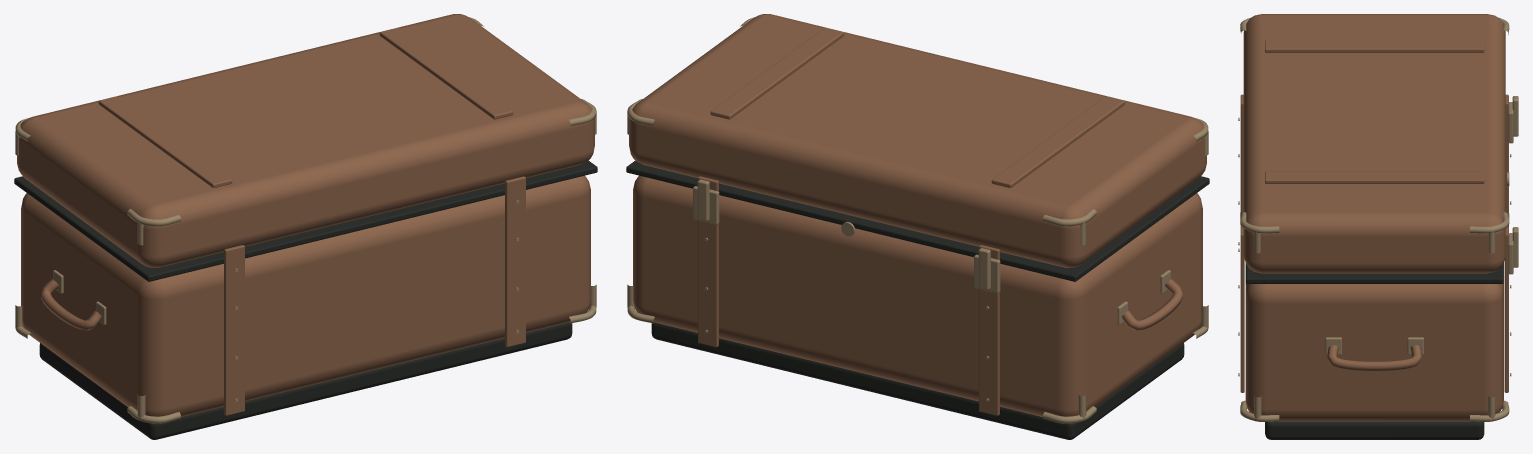
Rendered from crafted-steamer-trunk.glb.
3 renders of one model, left to right at view 1: azimuth 30°, elevation 25°; view 2: azimuth 150°, elevation 25°; view 3: azimuth 270°, elevation 25°, orthographic. The views are drawn at different scales.
Visible parts, largest first — view 1: leather_surfaces, dark_surfaces, bronze_surfaces; view 2: leather_surfaces, dark_surfaces, bronze_surfaces; view 3: leather_surfaces, dark_surfaces, bronze_surfaces.
Part boxes in pixels (x1,y1,x2,y2): leather_surfaces: (17, 14, 594, 416); dark_surfaces: (14, 160, 597, 439); bronze_surfaces: (15, 17, 596, 423); leather_surfaces: (629, 14, 1206, 416); dark_surfaces: (626, 160, 1209, 439); bronze_surfaces: (627, 17, 1208, 423); leather_surfaces: (1240, 14, 1508, 421); dark_surfaces: (1245, 263, 1503, 439); bronze_surfaces: (1238, 17, 1518, 421).
Size of the model in its own units: 1.16 by 0.546 by 0.595.
